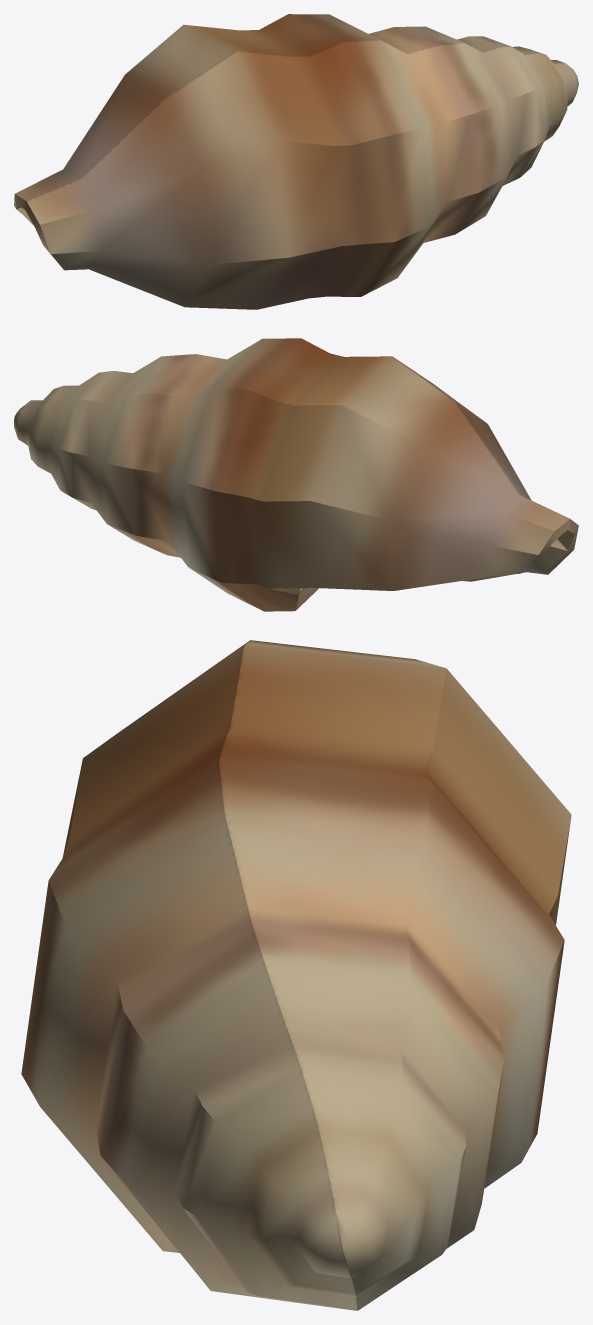
Rendered from SM_Shell_Whelk.obj.
The picture shows the model from 3 angles, top to bottom: view 1: azimuth 30°, elevation 25°; view 2: azimuth 150°, elevation 25°; view 3: azimuth 270°, elevation 25°; orthographic projection. The views are drawn at different scales.
Parts seen in each view (by area): view 1: SM_Shell_Whelk; view 2: SM_Shell_Whelk; view 3: SM_Shell_Whelk.
Part boxes in pixels (x1,y1,x2,y2): SM_Shell_Whelk: (14,14,578,309); SM_Shell_Whelk: (14,338,578,611); SM_Shell_Whelk: (21,640,571,1310).
Bounding box in the file's own units: 6 × 2.71 × 2.63.
Materials: 1 (1 with a texture image).
